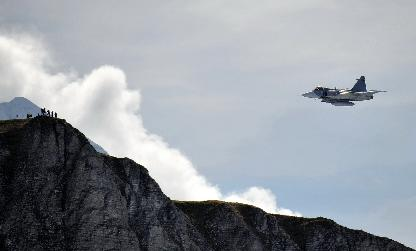JAS39: (296, 75, 386, 105)
